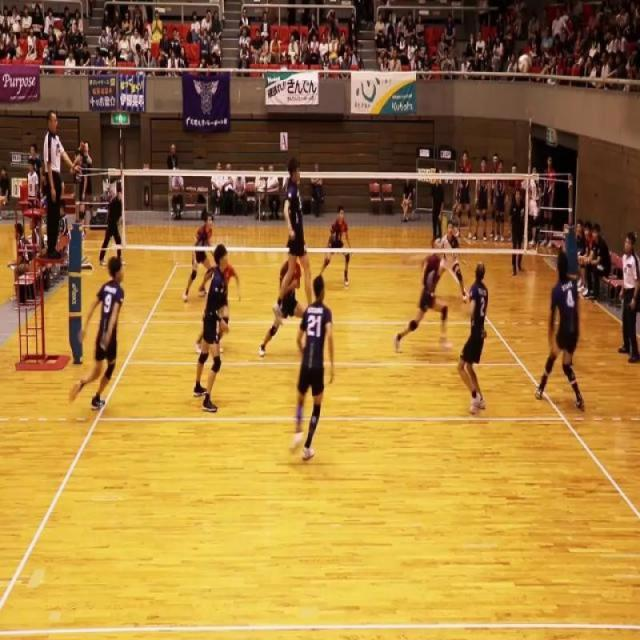volleyball: (518, 51, 530, 74)
